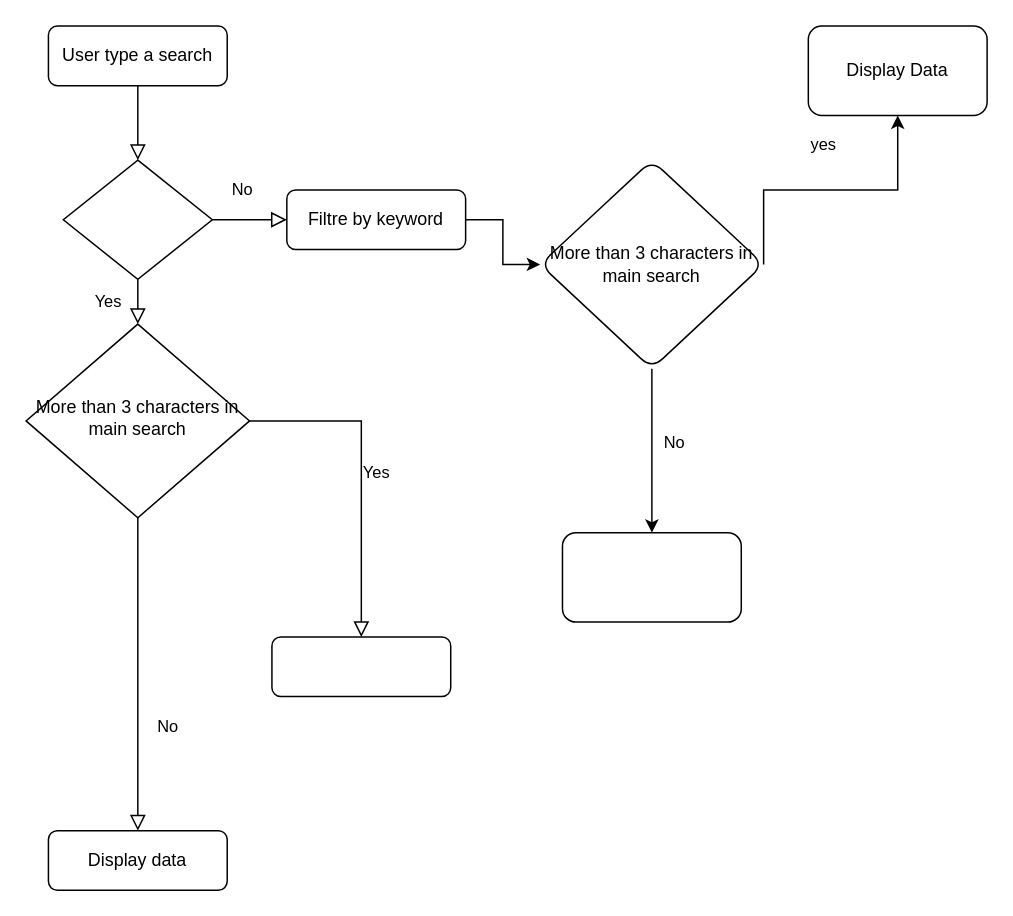
The diagram is 1013 pixels wide and 916 high, and some of its shapes have lost their labels. The shapes that lost their labels are listed below. From the top down, each one's centre as x and y in pixels, then its label:
the point at 137,219: Check for tags
the point at 651,576: No changes
the point at 360,666: Filter by keyword
